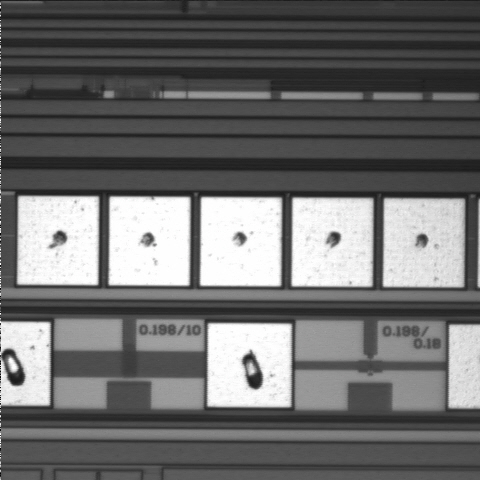pad: (17, 196, 99, 285), (200, 197, 282, 286), (109, 197, 190, 286), (292, 198, 373, 287), (207, 323, 292, 407), (383, 199, 464, 287)
